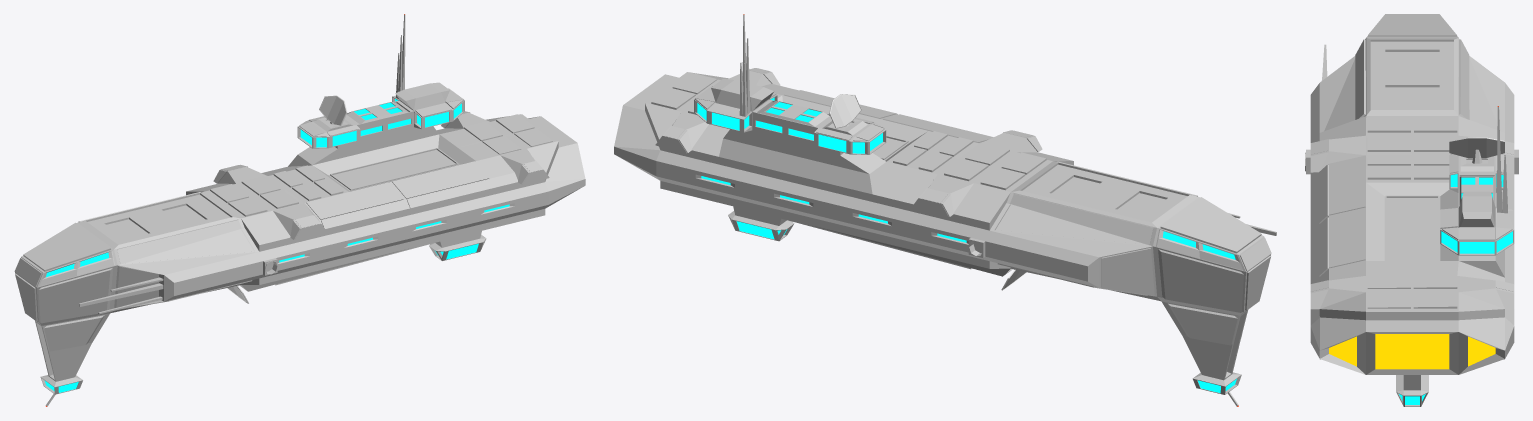
File: copenhagenAlt.fbx
The picture shows the model from 3 angles, left to right: view 1: azimuth 30°, elevation 25°; view 2: azimuth 150°, elevation 25°; view 3: azimuth 270°, elevation 25°; orthographic projection. The views are drawn at different scales.
Parts seen in each view (by area): view 1: ship, radar; view 2: ship, radar; view 3: ship, radar.
Boxes of the visible parts, x1,y1,x2,y2 form: ship: (14, 14, 585, 406); radar: (319, 95, 347, 125); ship: (614, 14, 1276, 406); radar: (829, 94, 861, 128); ship: (1305, 14, 1518, 406); radar: (1449, 137, 1504, 163).
Size of the model in its own units: 8.42 by 4.07 by 2.31.
